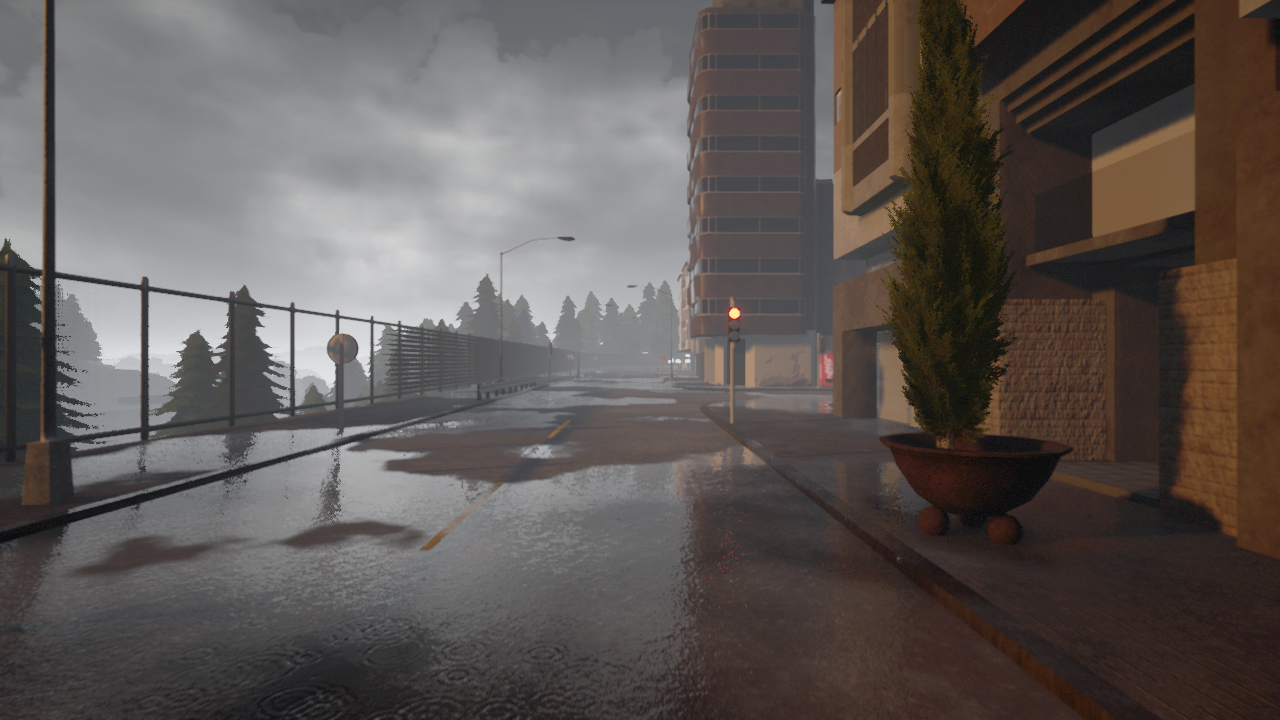red: (727, 306, 740, 343)
